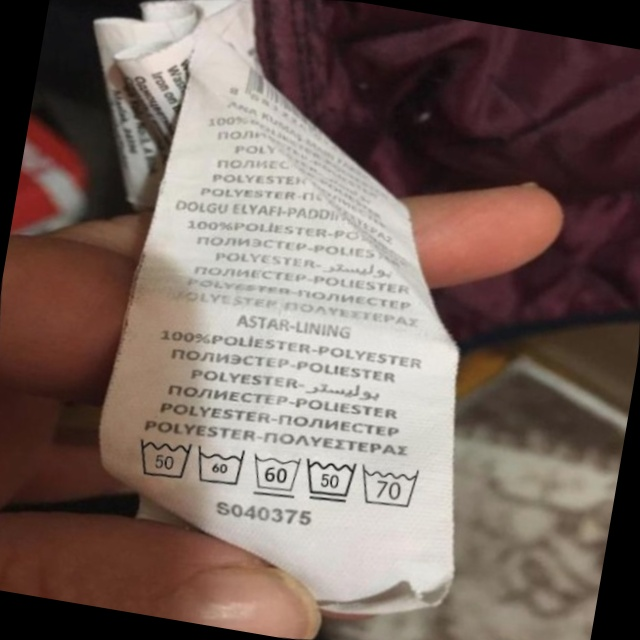50C: (126, 424, 202, 491), (296, 448, 366, 513)
60C: (244, 442, 311, 506), (188, 436, 255, 497)
70C: (354, 455, 431, 518)
